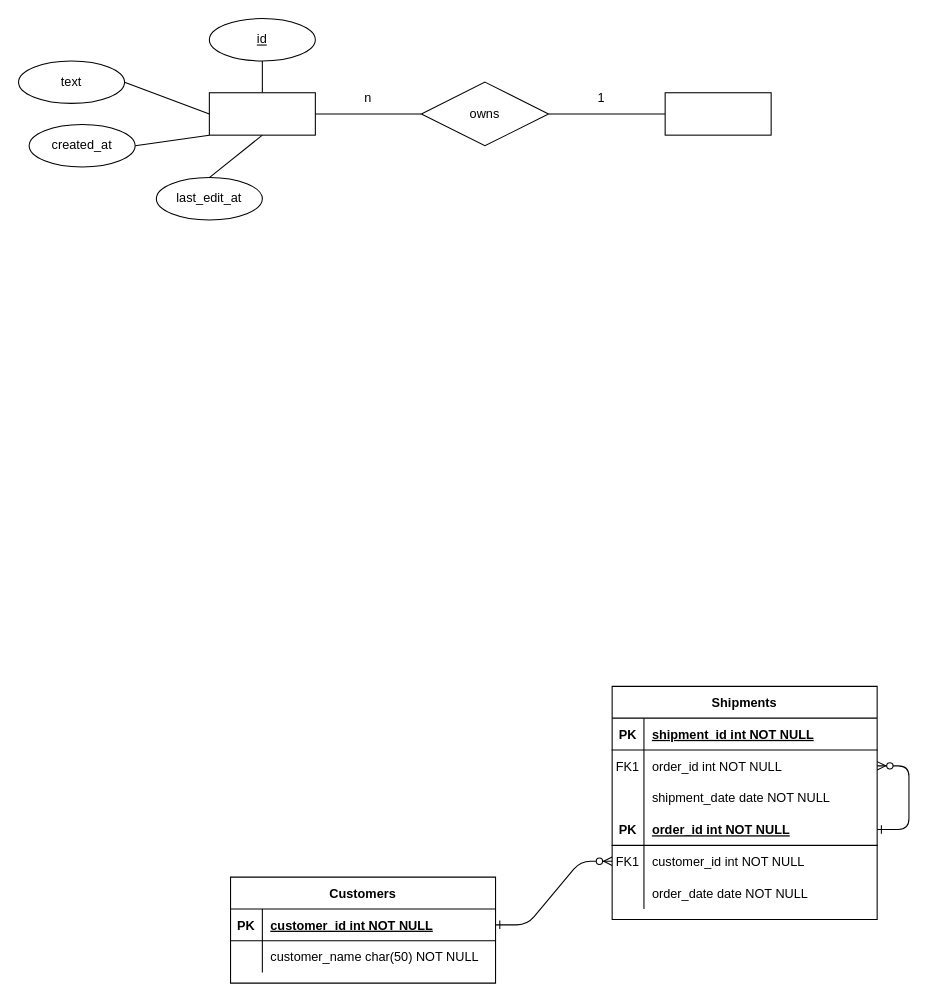
Some shapes in this 937 by 1002 pixel diagram are drawn without their labels. The centre of each missing label's shape, as x and y in pixels:
"Note" belongs at pixel 261 113.
"User" belongs at pixel 717 113.
